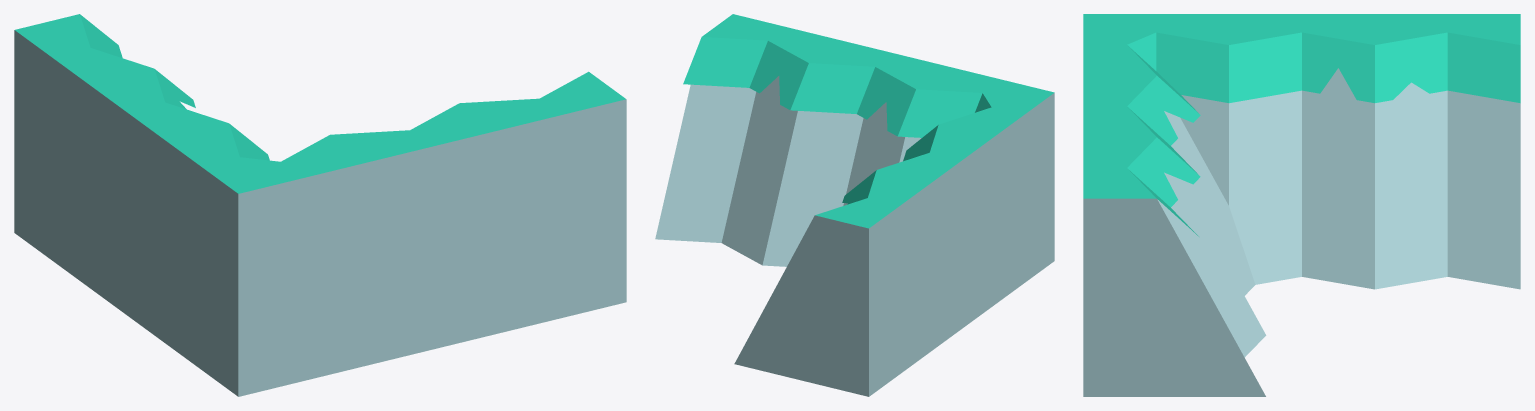
File: cliff_halfCornerInner_stone.glb
The picture shows the model from 3 angles, left to right: view 1: azimuth 30°, elevation 25°; view 2: azimuth 150°, elevation 25°; view 3: azimuth 270°, elevation 25°; orthographic projection. The views are drawn at different scales.
Visible parts, largest first — view 1: cliff_halfCornerInner_stone; view 2: cliff_halfCornerInner_stone; view 3: cliff_halfCornerInner_stone.
Part boxes in pixels (x1=…): cliff_halfCornerInner_stone: x1=14, y1=14, x2=626, y2=396; cliff_halfCornerInner_stone: x1=655, y1=14, x2=1054, y2=396; cliff_halfCornerInner_stone: x1=1083, y1=14, x2=1520, y2=396.
Size of the model in its own units: 1 by 0.5 by 1.
